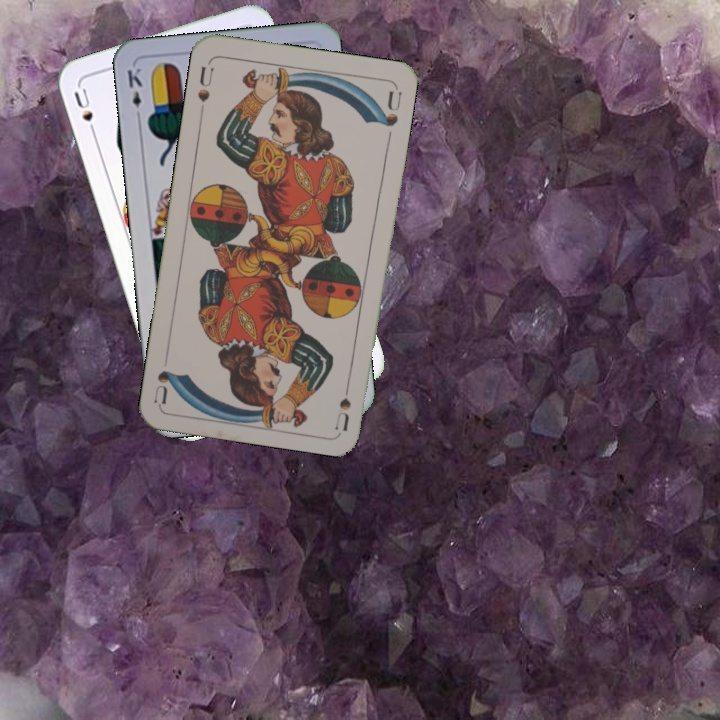EK: (123, 64, 145, 123)
SU: (70, 83, 100, 141), (331, 372, 354, 431), (194, 62, 217, 117)
